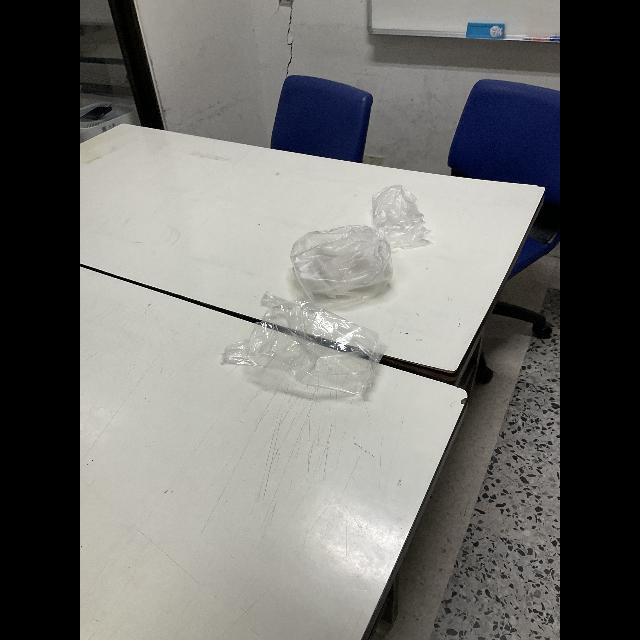plastic_bag: (211, 293, 391, 412), (285, 224, 399, 310), (364, 186, 436, 244)
